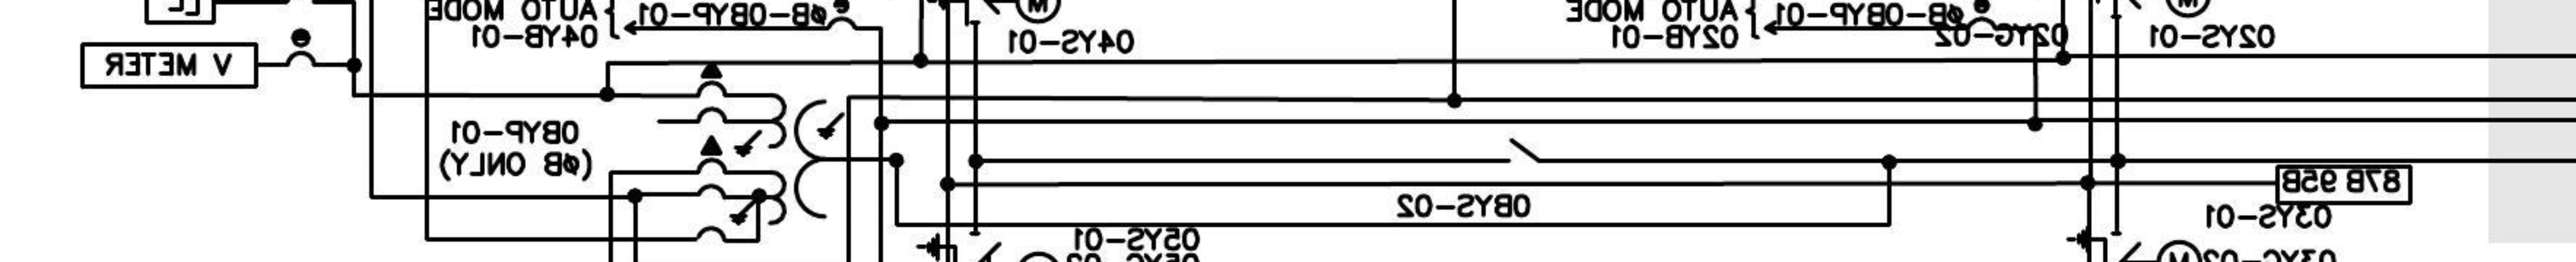115_ds: (1505, 138, 1543, 164)
115_vt_1p: (695, 61, 846, 228)
v_m_digital: (79, 39, 261, 92)
